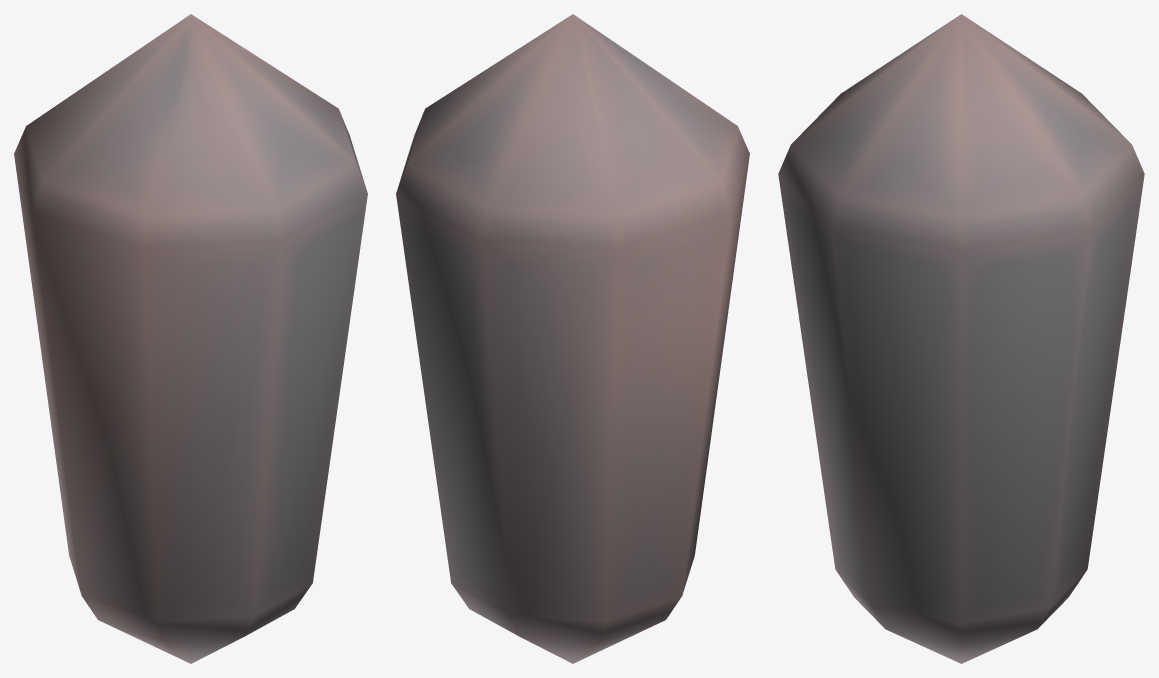
The model's file is SM_RefinedMineral_1.fbx.
The picture shows the model from 3 angles, left to right: view 1: azimuth 30°, elevation 25°; view 2: azimuth 150°, elevation 25°; view 3: azimuth 270°, elevation 25°; orthographic projection.
Parts seen in each view (by area): view 1: SM_RefinedMineral_1; view 2: SM_RefinedMineral_1; view 3: SM_RefinedMineral_1.
Part boxes in pixels (<box>): SM_RefinedMineral_1: <box>14,14,367,663</box>; SM_RefinedMineral_1: <box>396,14,749,663</box>; SM_RefinedMineral_1: <box>778,14,1144,663</box>.
Bounding box in the file's own units: 0.2321 × 0.2321 × 0.4542.
